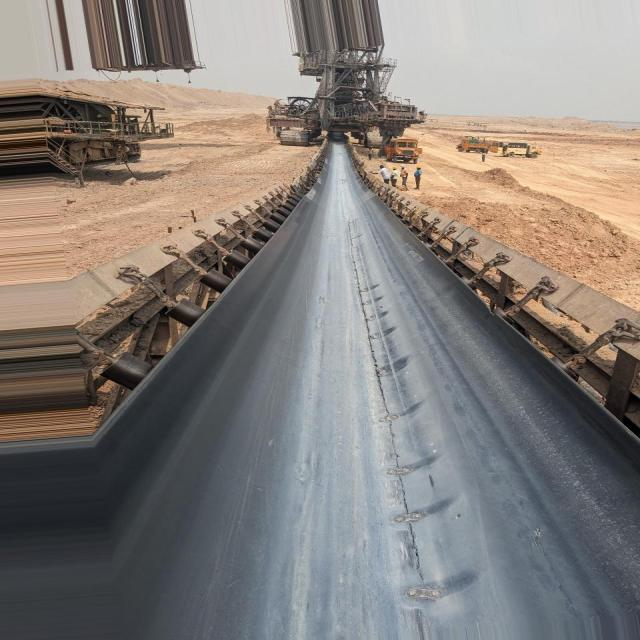Human: (371, 163, 422, 187)
Roller: (98, 186, 311, 389)
patch work: (344, 222, 450, 612)
